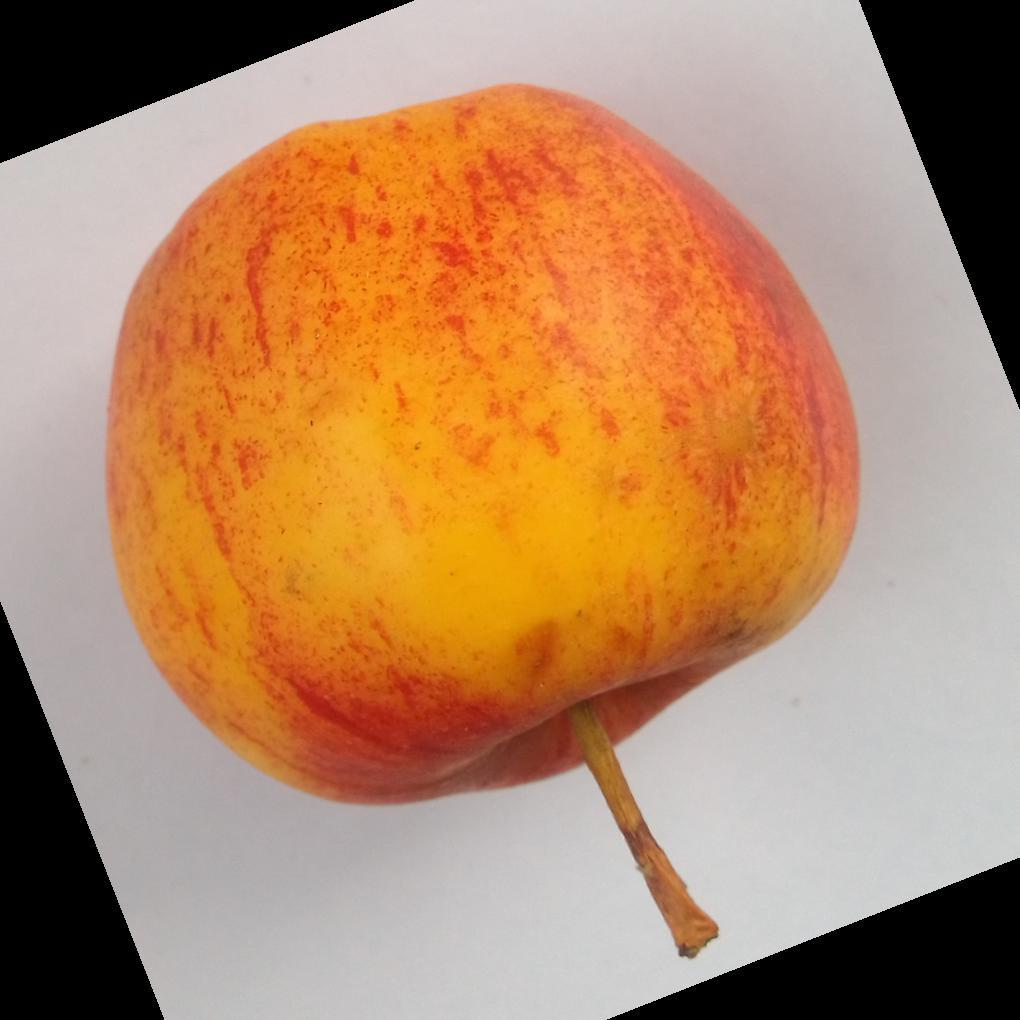FreshGuava: (102, 83, 862, 905)
